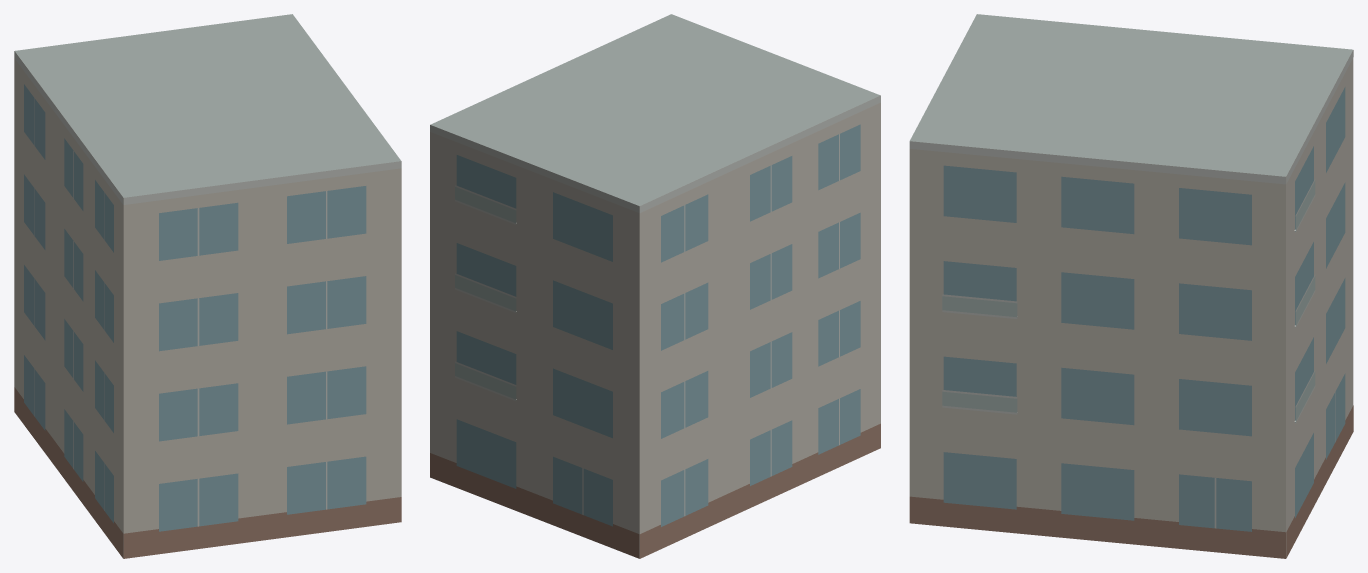
The model's file is residential-f48cc6fc-7041-455f-b4f7-6365d055bc31.glb.
The picture shows the model from 3 angles, left to right: view 1: azimuth 30°, elevation 25°; view 2: azimuth 150°, elevation 25°; view 3: azimuth 270°, elevation 25°; orthographic projection. The views are drawn at different scales.
Parts seen in each view (by area): view 1: residential-f48cc6fc-7041-455f-b4f7-6365d055bc31.tmp; view 2: residential-f48cc6fc-7041-455f-b4f7-6365d055bc31.tmp; view 3: residential-f48cc6fc-7041-455f-b4f7-6365d055bc31.tmp.
Boxes of the visible parts, box(x1,y1,x2,y2) form: residential-f48cc6fc-7041-455f-b4f7-6365d055bc31.tmp: box(14, 14, 401, 558); residential-f48cc6fc-7041-455f-b4f7-6365d055bc31.tmp: box(430, 14, 880, 558); residential-f48cc6fc-7041-455f-b4f7-6365d055bc31.tmp: box(909, 14, 1353, 558).
Bounding box in the file's own units: 11.16 × 12.2 × 12.86.
